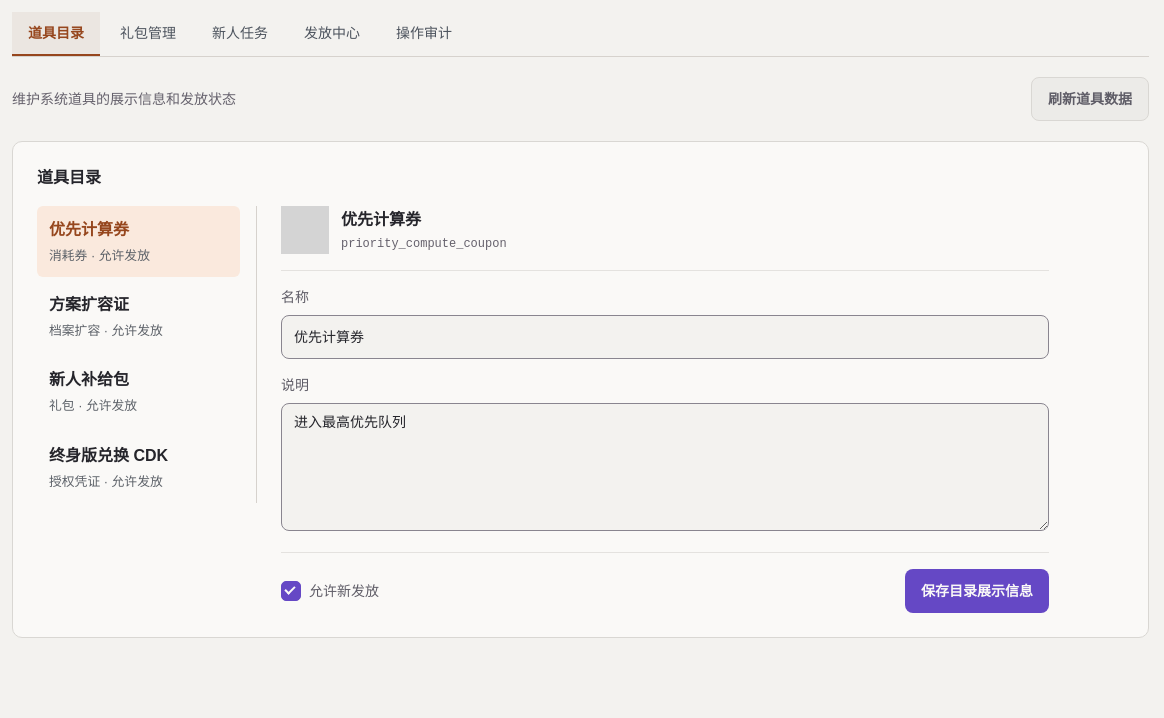
Test: InventoryAdminSection › splits the management workflow into accessible tabs
This screenshot has width=1164, height=718.
Expected: the text "维护系统道具的展示信息和发放状态" is shown, [12, 89, 236, 109]
Expected: the text "创建礼包或宝箱" is not shown
Click the tab "礼包管理" at (148, 34), box [104, 12, 192, 56]
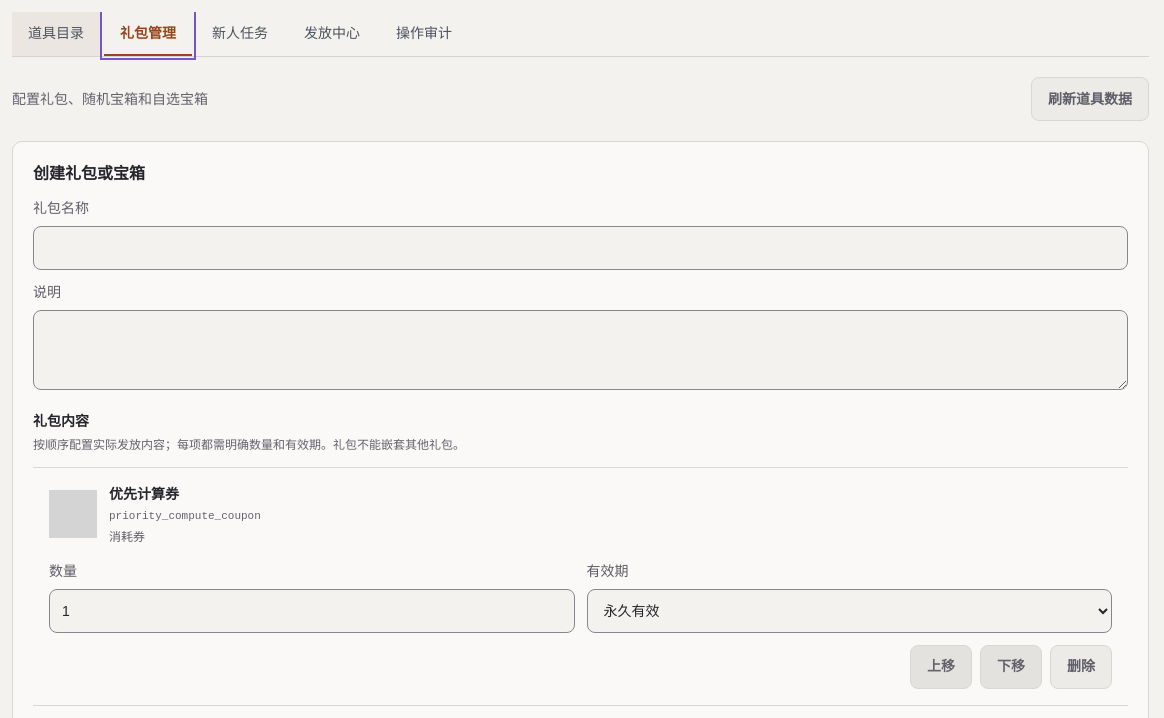
Expected: the heading "创建礼包或宝箱" is shown, [33, 165, 145, 182]
